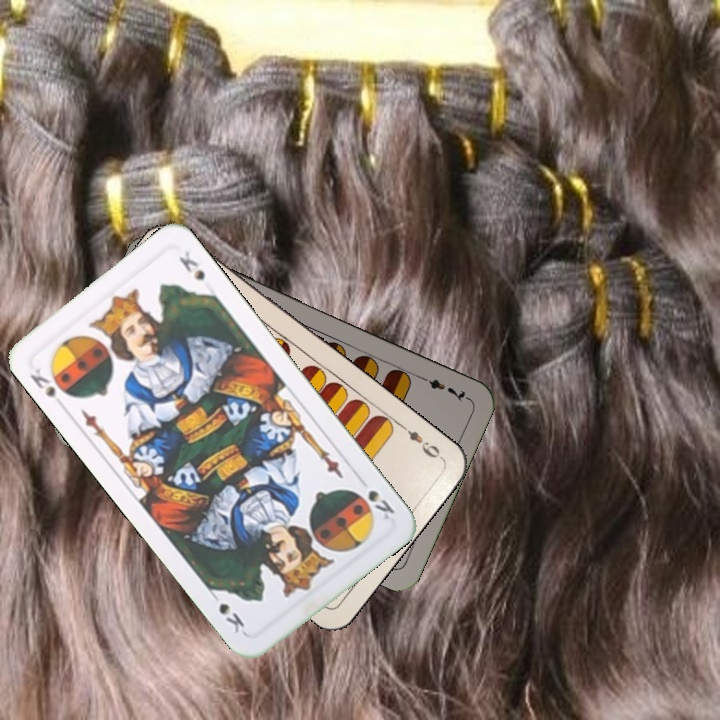E7: (415, 371, 471, 404)
E9: (396, 420, 445, 462)
SK: (26, 362, 75, 401), (353, 486, 398, 523)
